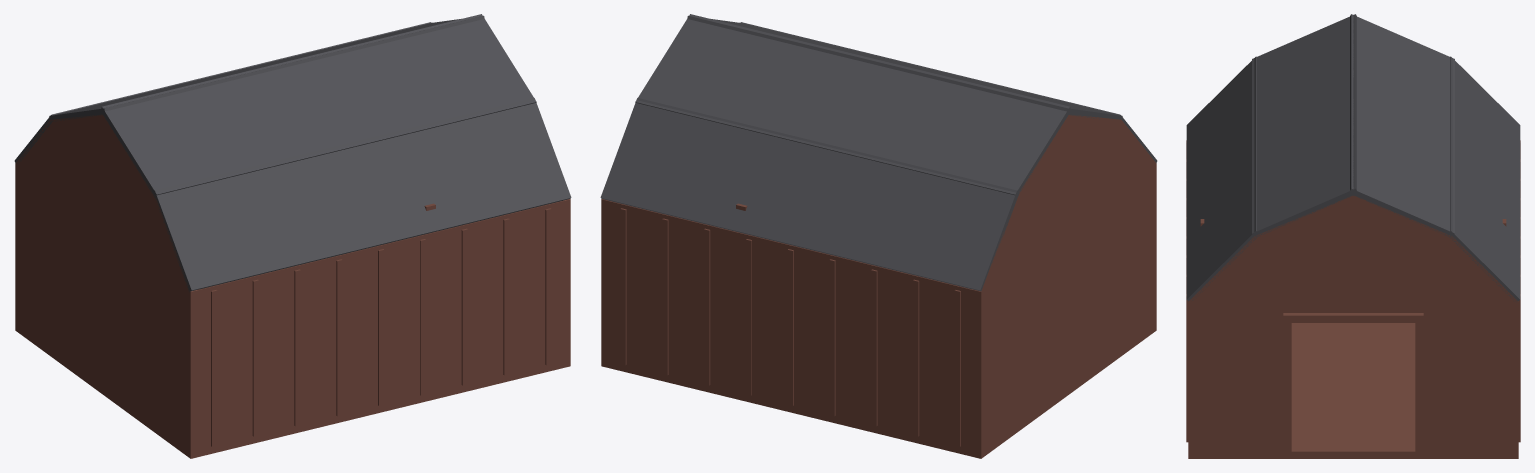
File: barn.glb
3 views of the same model, side by side, from view 1: azimuth 30°, elevation 25°; view 2: azimuth 150°, elevation 25°; view 3: azimuth 270°, elevation 25° (orthographic). The views are drawn at different scales.
Parts seen in each view (by area): view 1: barn; view 2: barn; view 3: barn.
Boxes of the visible parts, left/top/right/bottom form: barn: left=14, top=14, right=571, bottom=458; barn: left=600, top=14, right=1157, bottom=458; barn: left=1186, top=14, right=1520, bottom=458.
Bounding box in the file's own units: 10.15 × 7.23 × 8.09.
